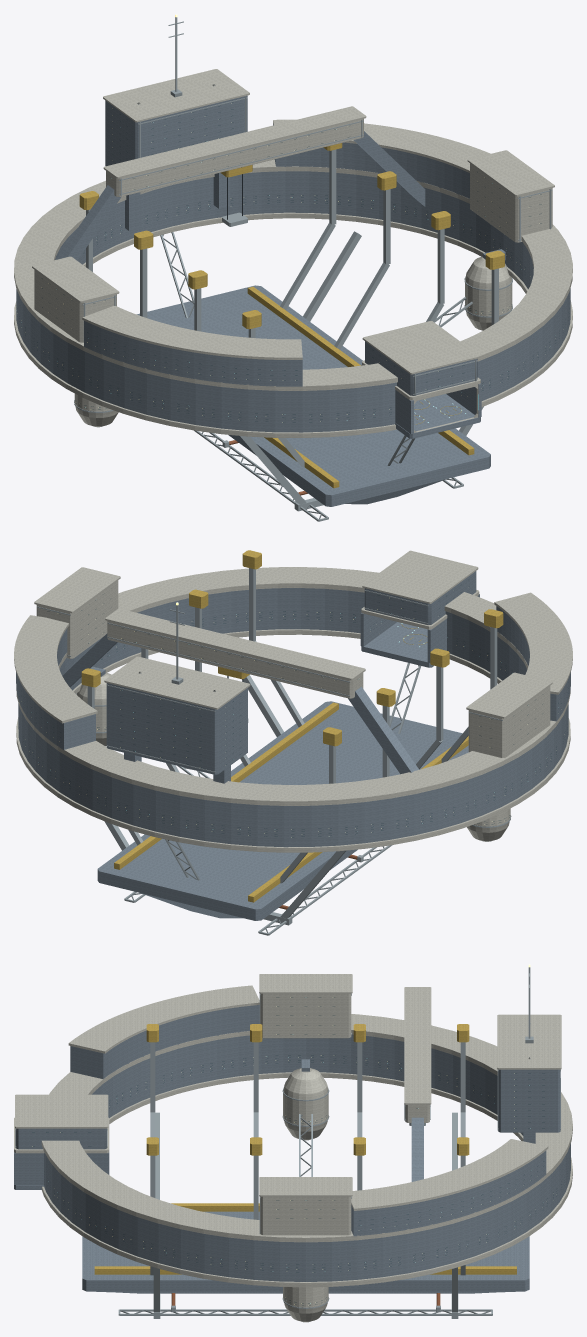
File: argent.glb
3 renders of one model, top to bottom at view 1: azimuth 30°, elevation 25°; view 2: azimuth 150°, elevation 25°; view 3: azimuth 270°, elevation 25°, orthographic. The views are drawn at different scales.
Parts seen in each view (by area): view 1: argent / hull, argent / armor, argent / metal, argent / ochre, argent / glass; view 2: argent / hull, argent / armor, argent / metal, argent / ochre, argent / glass; view 3: argent / hull, argent / armor, argent / metal, argent / ochre, argent / glass.
Boxes of the visible parts, x1,y1,x2,y2 form: argent / hull: (16,95,570,506); argent / armor: (14,69,572,437); argent / metal: (74,17,552,521); argent / ochre: (79,143,504,488); argent / glass: (25,102,559,422); argent / hull: (16,571,570,920); argent / armor: (14,550,572,852); argent / metal: (36,568,511,935); argent / ochre: (81,550,503,902); argent / glass: (30,592,561,837); argent / hull: (14,1005,570,1293); argent / armor: (14,974,572,1322); argent / metal: (15,967,560,1322); argent / ochre: (94,1024,516,1274); argent / glass: (32,997,561,1305).
Bounding box in the file's own units: 168 × 111 × 176.
9 materials, 4 textured.
